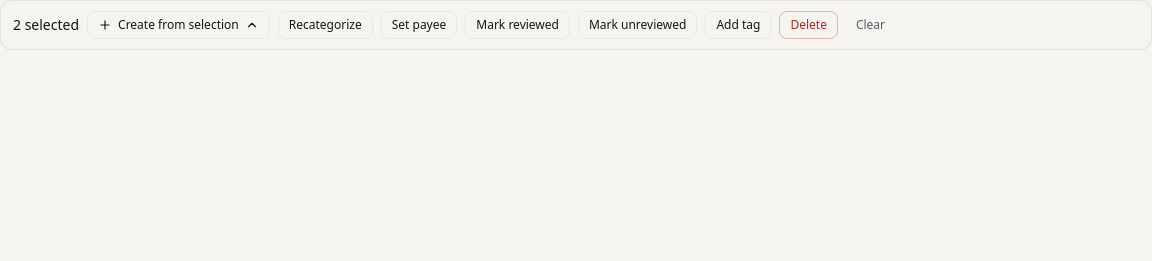
Test: M174 — the bulk toolbar's create menu (docs/09 §Bulk selection toolbar) › blocks a multi-merchant selection with the reason, and never as a link
The width and height of the screenshot is (1152, 261).
What coordinates should you click on to do the following:
click the button "Create from selection"
I would click on:
 (178, 25)
Its box is [87,11,270,39].
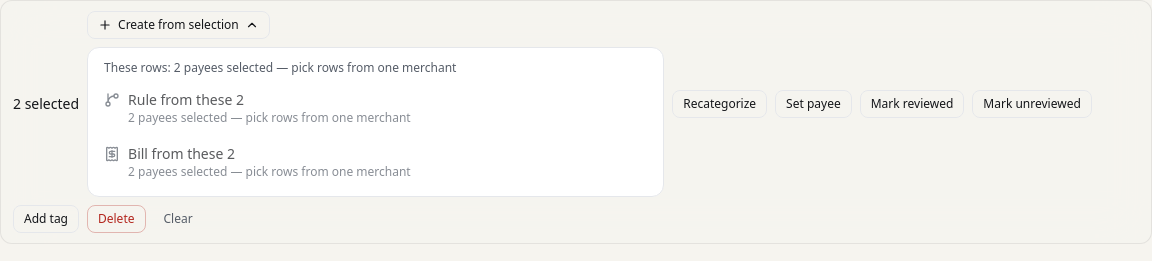
Check: the menu item "Rule from these 2" shows "2 payees selected — pick rows from one merchant", box [104,90,411,126]
Check: the menu item "Bill from these 2" shows "2 payees selected — pick rows from one merchant", box [104,144,411,180]
